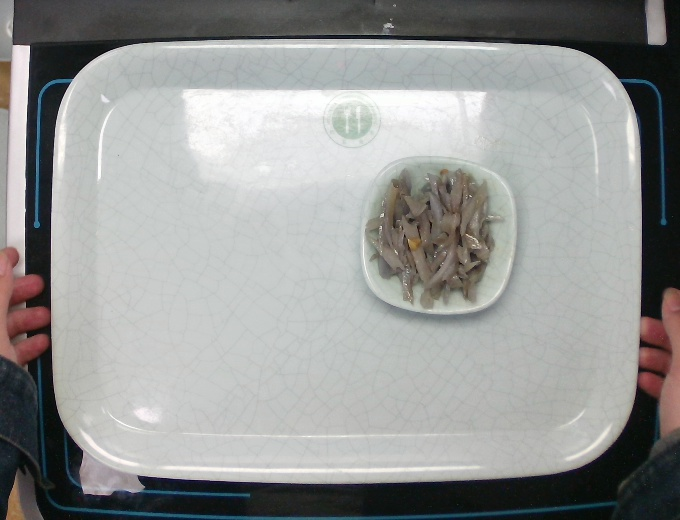JYsf-Si_Fang_Die: (348, 147, 529, 332)
